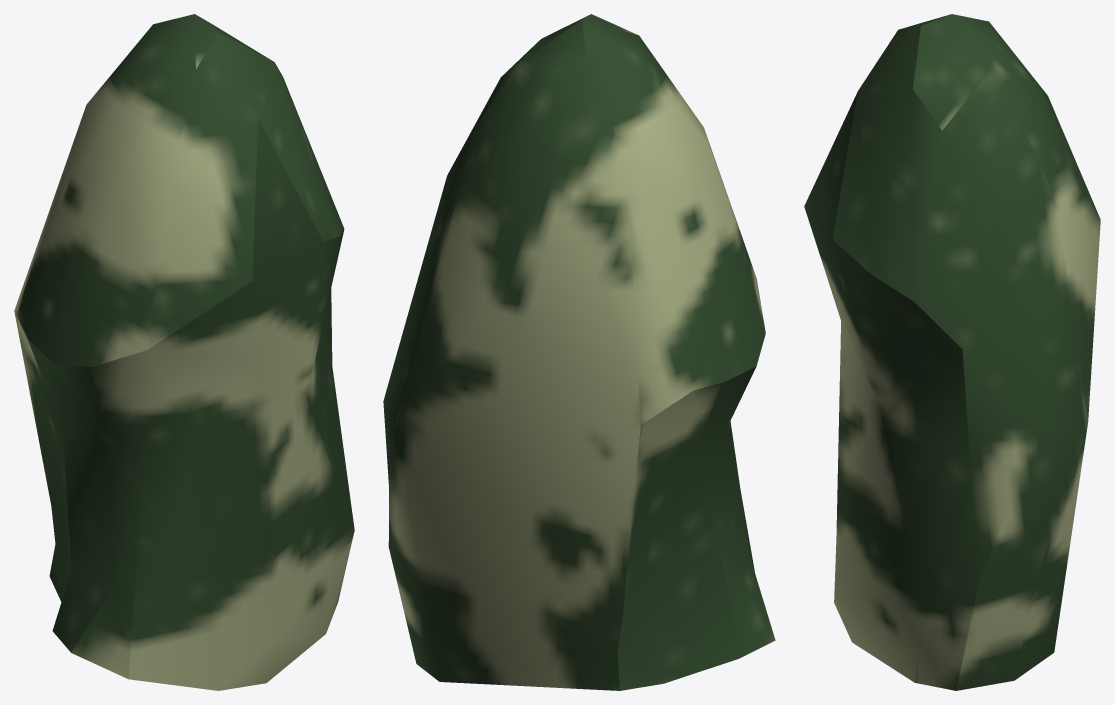
The model's file is link_leg_0_L_1.obj.
The picture shows the model from 3 angles, left to right: view 1: azimuth 30°, elevation 25°; view 2: azimuth 150°, elevation 25°; view 3: azimuth 270°, elevation 25°; orthographic projection. The views are drawn at different scales.
Visible parts, largest first — view 1: link_leg_0_L_1; view 2: link_leg_0_L_1; view 3: link_leg_0_L_1.
Boxes of the visible parts, bbox=[...] form: link_leg_0_L_1: bbox=[14, 14, 354, 690]; link_leg_0_L_1: bbox=[383, 14, 775, 690]; link_leg_0_L_1: bbox=[804, 14, 1100, 690].
Size of the model in its own units: 4.37 by 8.35 by 3.63.
